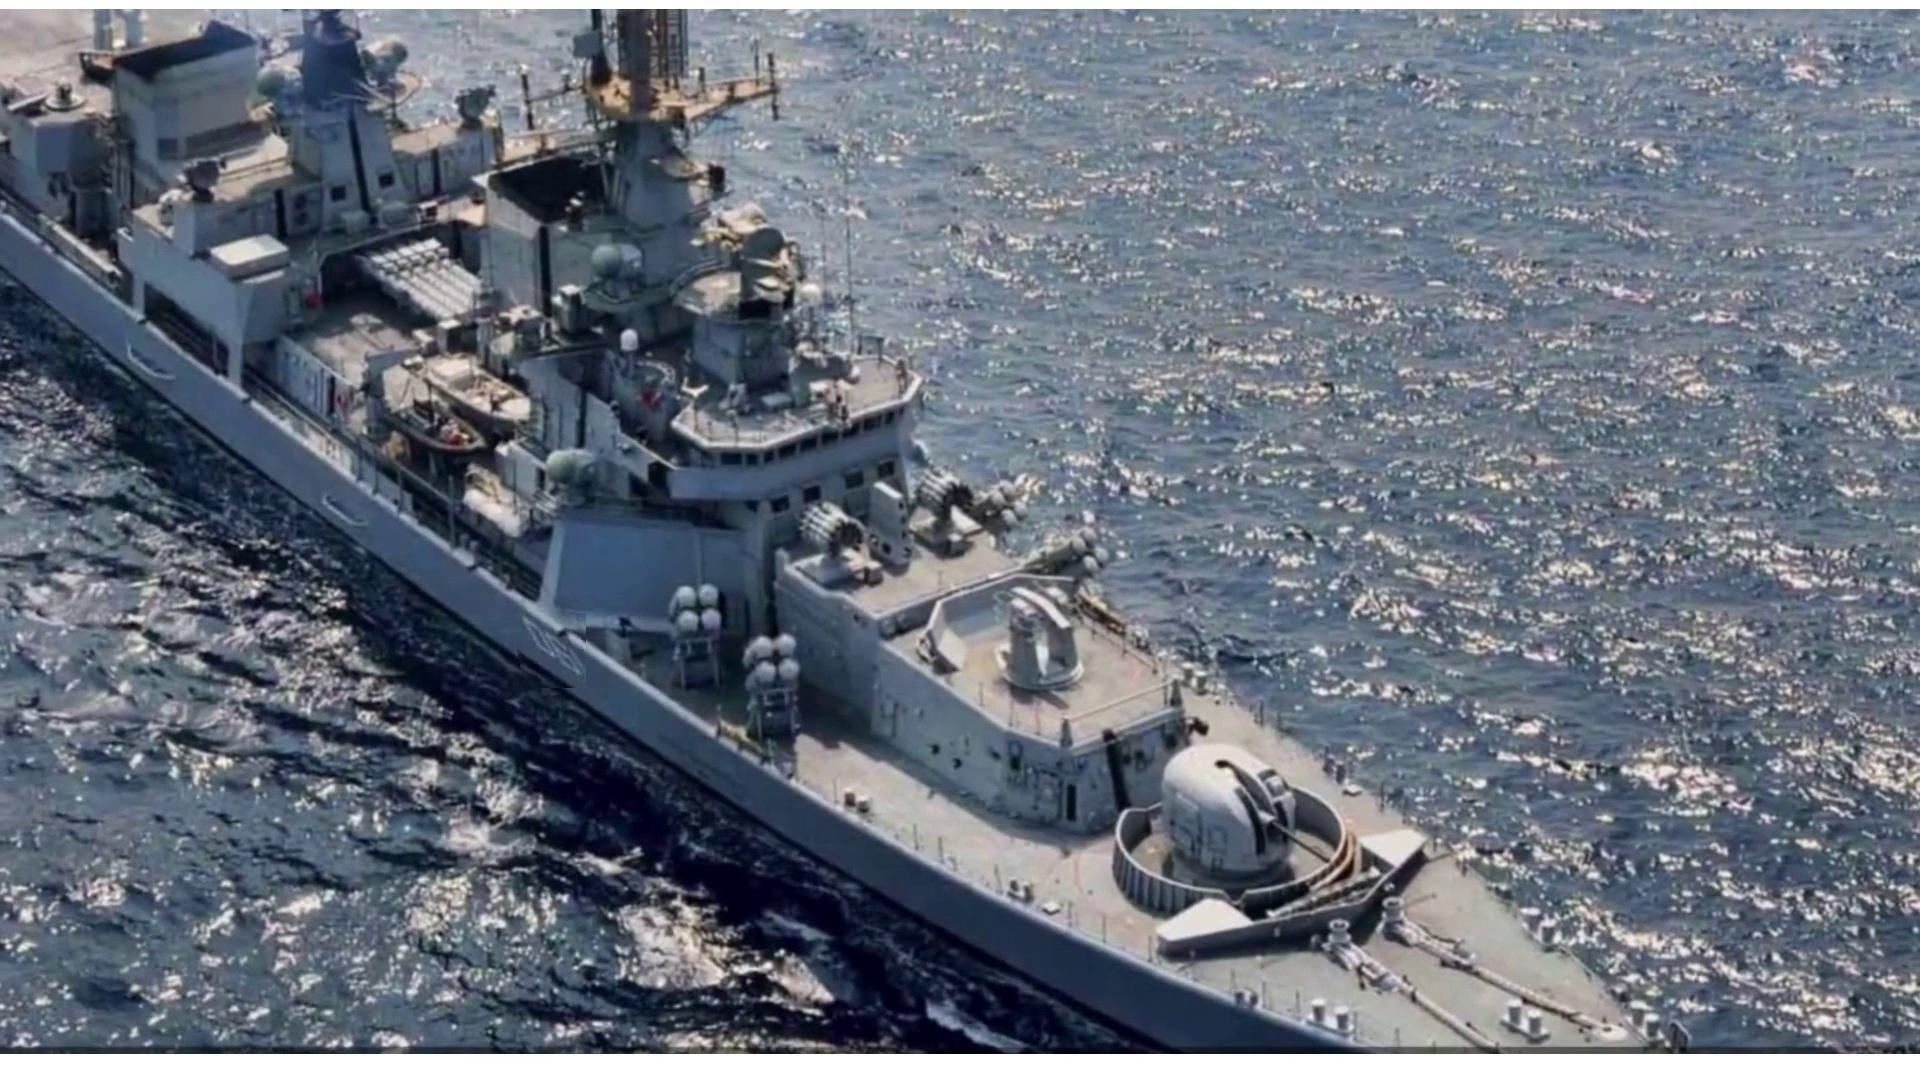OCR: (508, 607, 586, 688)
